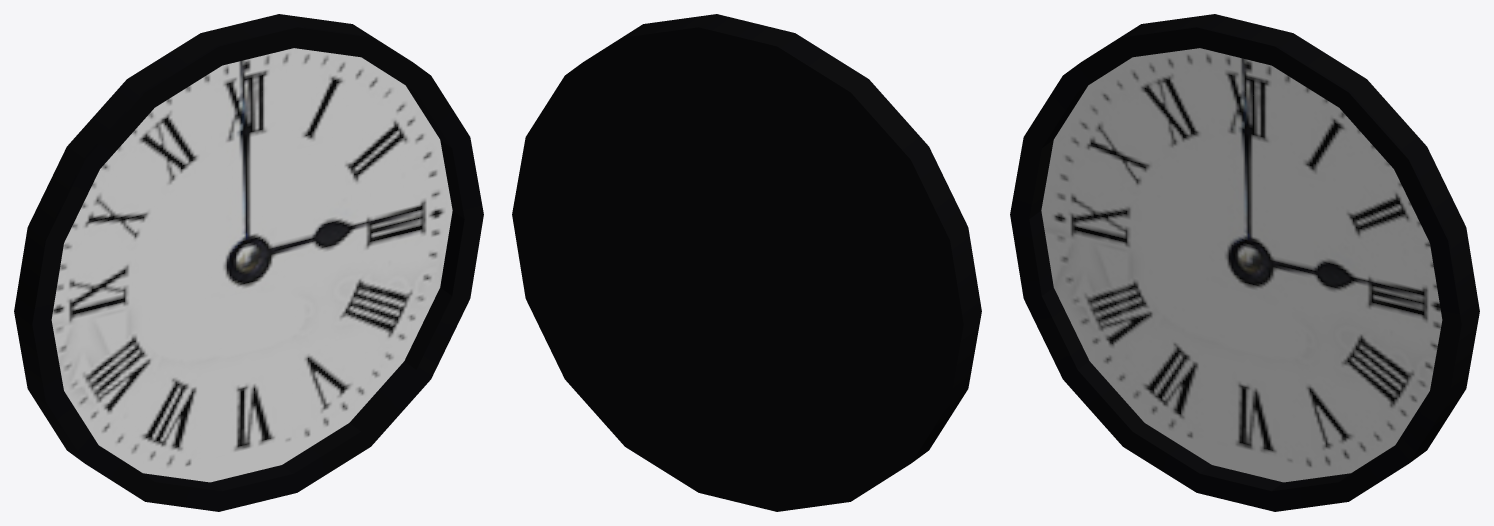
File: clock.FBX
The picture shows the model from 3 angles, left to right: view 1: azimuth 30°, elevation 25°; view 2: azimuth 150°, elevation 25°; view 3: azimuth 330°, elevation 25°; orthographic projection.
Visible parts, largest first — view 1: Cylinder002; view 2: Cylinder002; view 3: Cylinder002.
Part boxes in pixels (x1,y1,x2,y2): Cylinder002: (14,14,483,511); Cylinder002: (512,14,981,511); Cylinder002: (1010,14,1479,511).
Bounding box in the file's own units: 31.92 × 31.44 × 2.23.
Materials: 1 (1 with a texture image).
